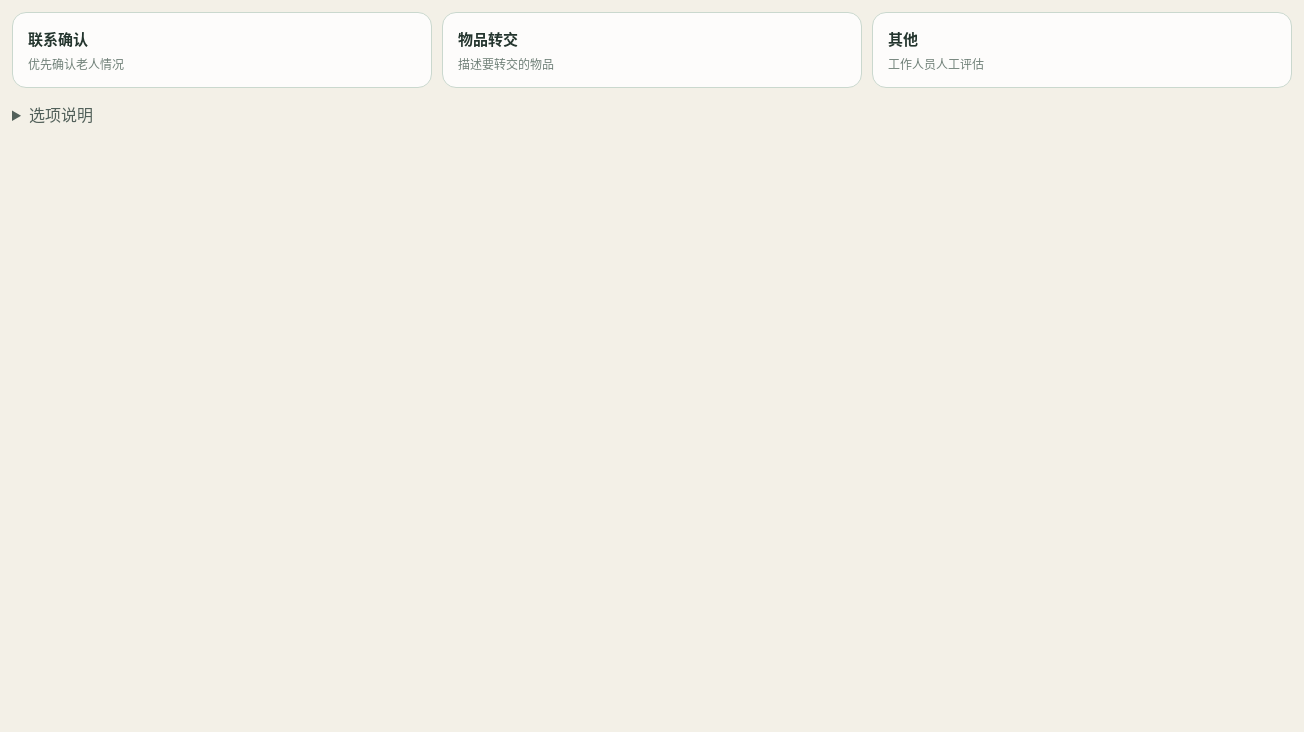
Scenario: FamilyConversation natural requests › submits a contact check from one natural description
The width and height of the screenshot is (1304, 732).
Expected: the heading "选项说明" is shown, [29, 102, 93, 126]
Step 1. Click the button "联系确认 优先确认老人情况" → (58, 38), box [12, 12, 432, 88]
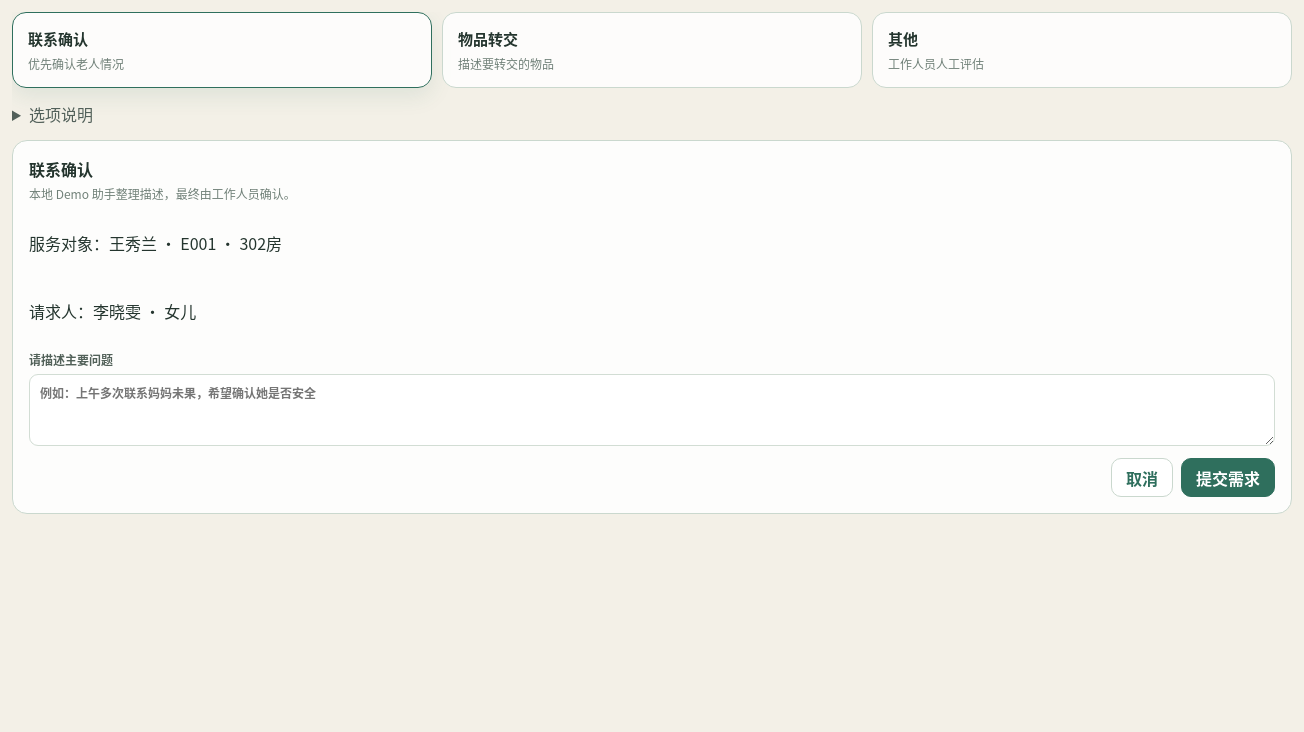
Step 2. Type "上午多次联系未果，希望确认老人安全。" into the text box labelled "请描述主要问题" → (652, 410), box [29, 374, 1275, 446]
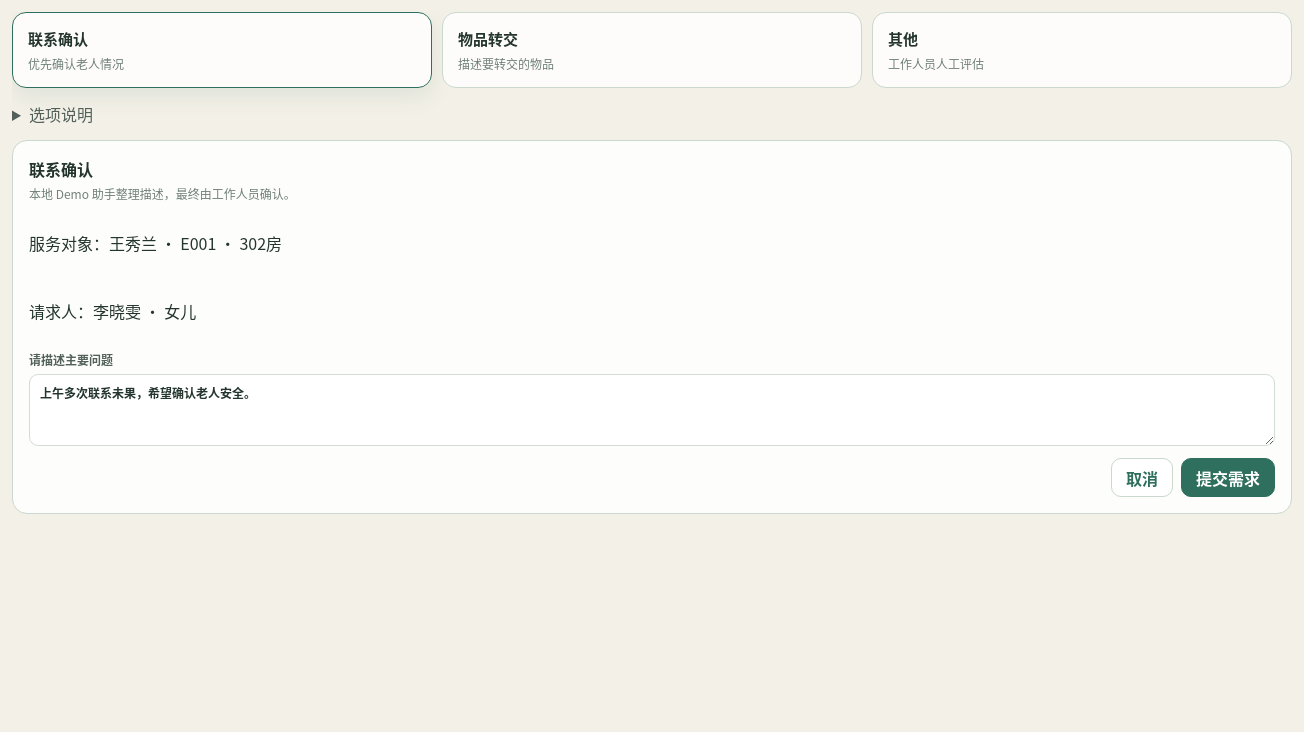
Step 3. Click the button "提交需求" → (1228, 478), box [1181, 458, 1275, 497]
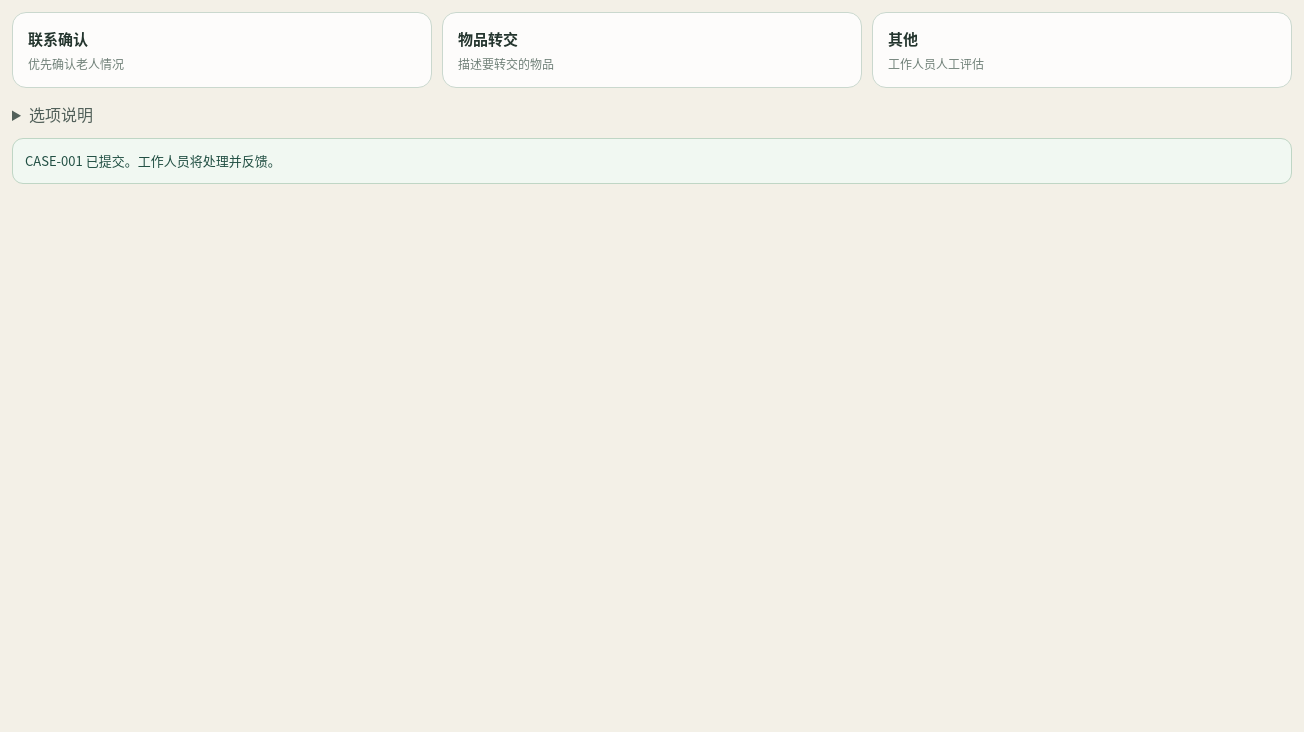
Now the message shows "CASE-001 已提交", box [25, 151, 281, 170]
